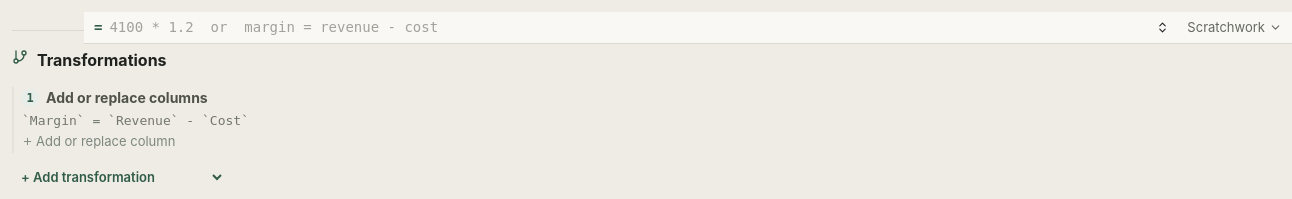
Test: PipelineEditor formula sessions › ends a session whose chain the document replaced from outside
The width and height of the screenshot is (1292, 199).
Click the button "`Margin` = `Revenue` - `Cost`".
click(135, 120)  # box [21, 111, 1270, 130]
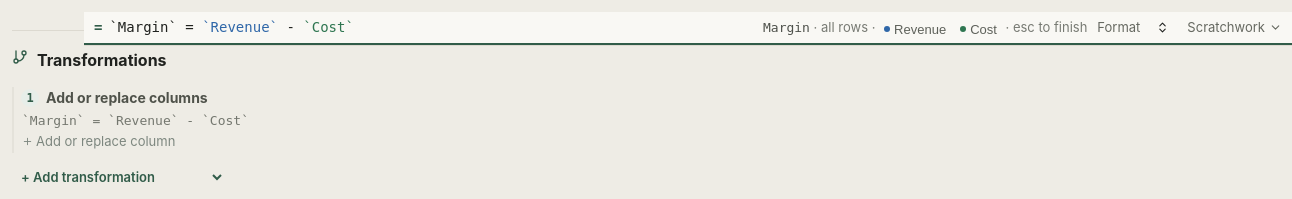
Expected: the text "Margin" is shown, [763, 20, 810, 35]
